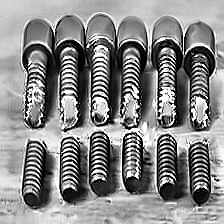creased_bolts: (13, 75, 218, 174)
